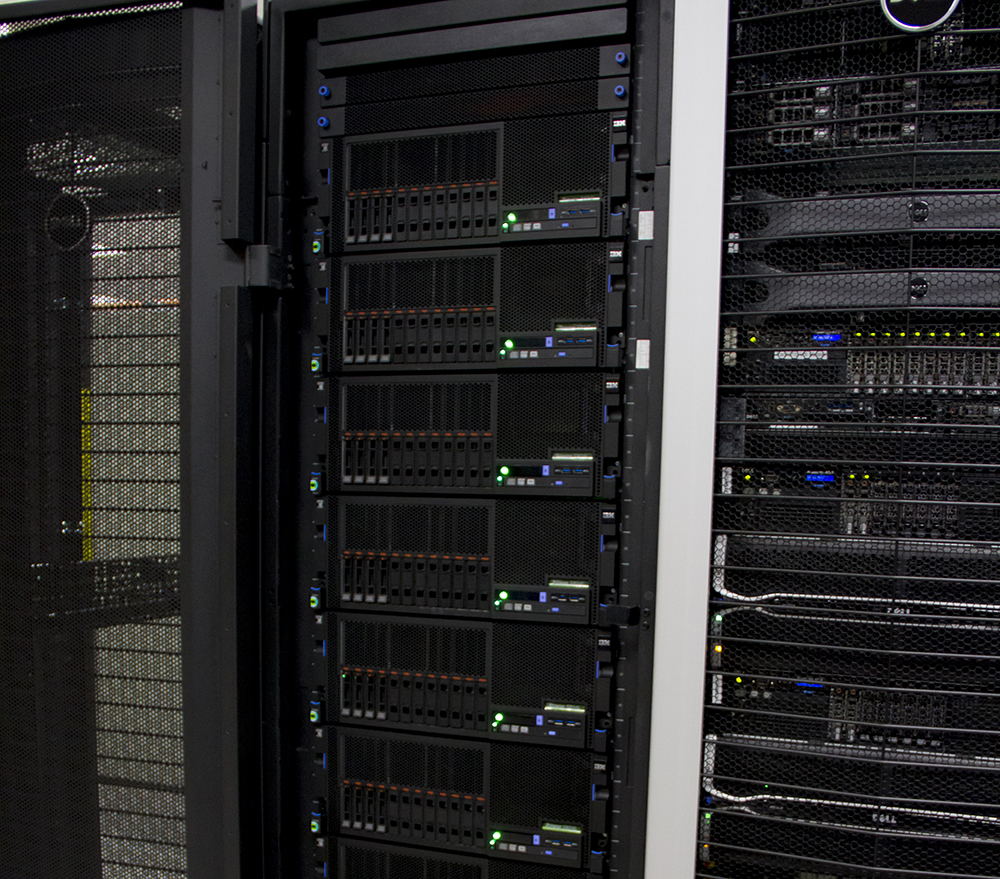ibm-server: (299, 363, 642, 490), (297, 491, 626, 611), (297, 251, 655, 356)
